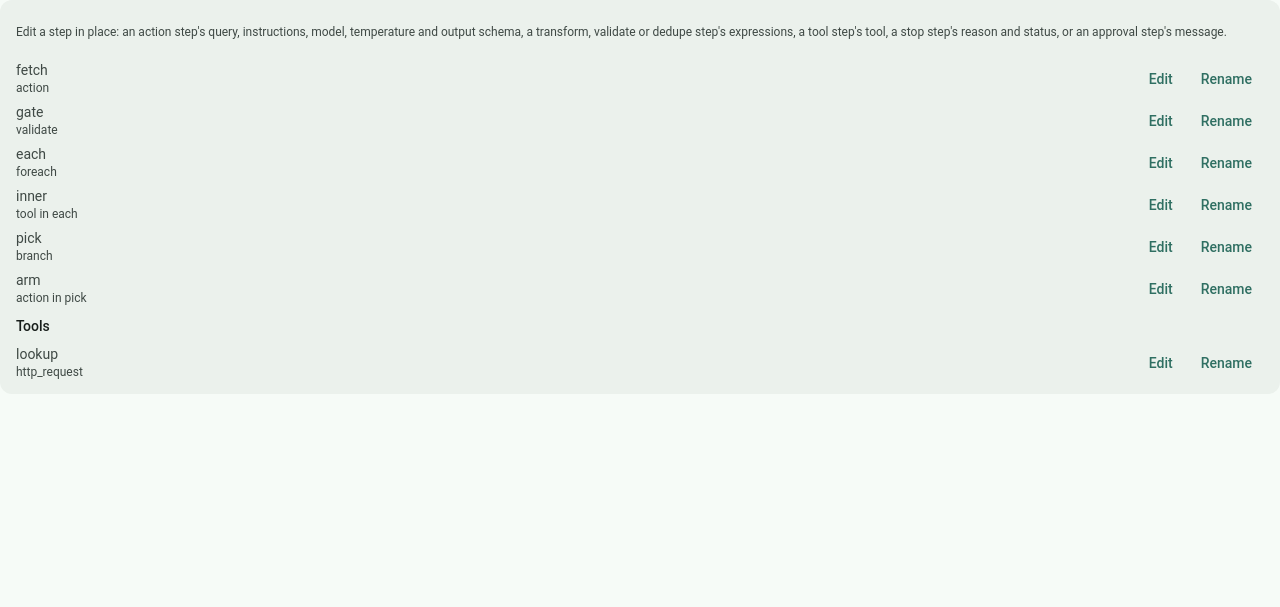
Test: StepsPanel rename › keeps the typed name and shows a refusal in words next to the field
Click the button with aria-label "Rename step fetch" at {"x": 1226, "y": 79}, box left=1189, top=61, right=1264, bottom=97
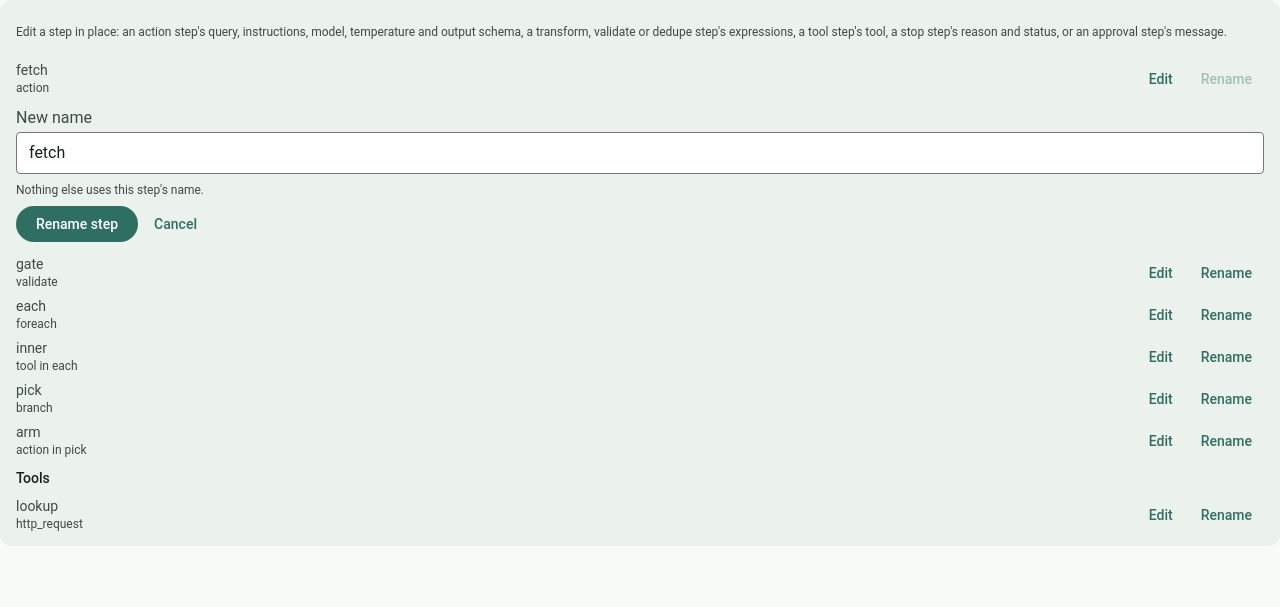
Replace the text in the field labelled "New name" with "gate" at {"x": 640, "y": 153}, box left=16, top=132, right=1264, bottom=174
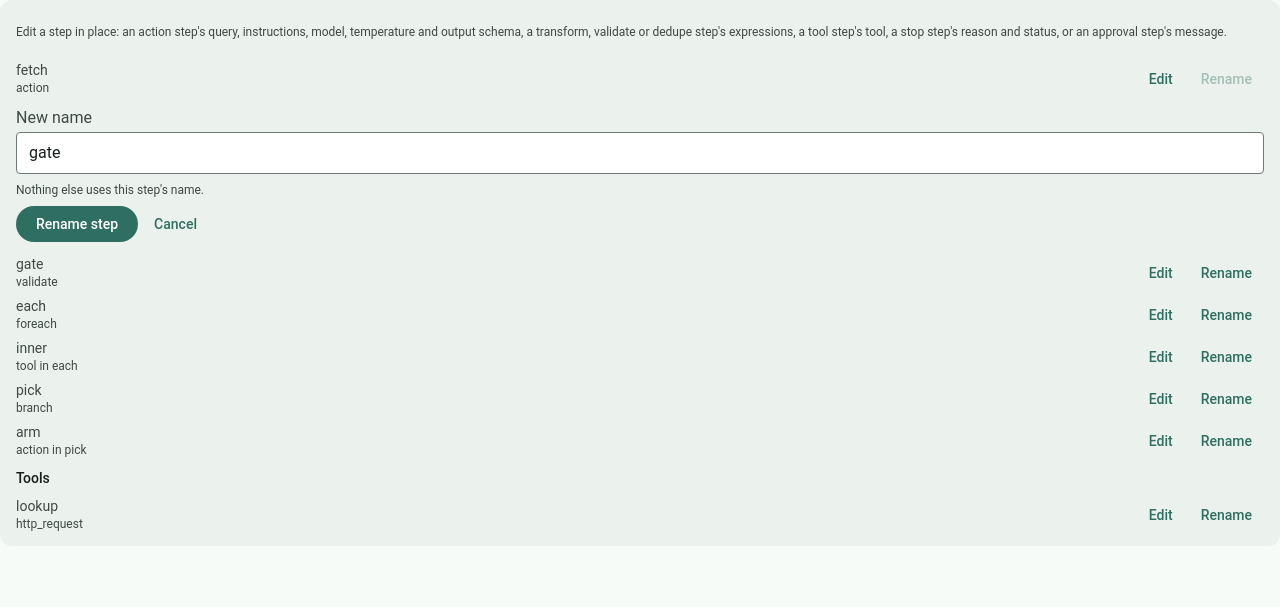
Click the button "Rename step" at {"x": 77, "y": 224}, box left=16, top=206, right=138, bottom=242
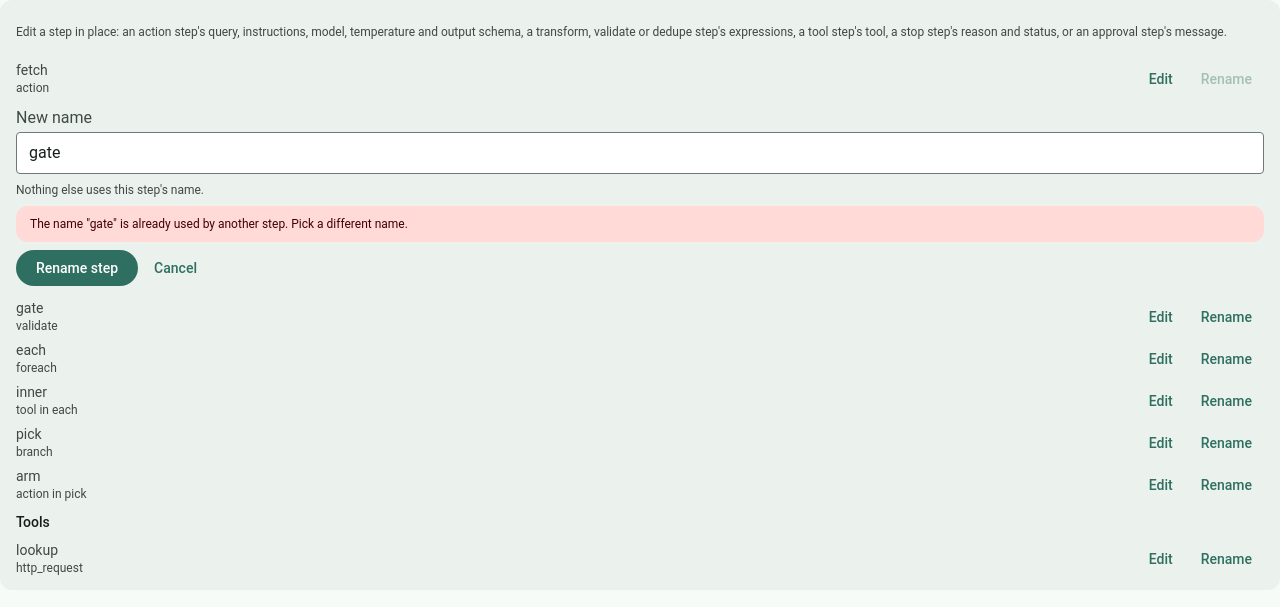
Expected: the message reads "The name \"gate\" is already used by another step. Pick a different name.", left=30, top=217, right=408, bottom=231
Replace the text in the field labelled "New name" with "gate2" at {"x": 640, "y": 153}, box left=16, top=132, right=1264, bottom=174
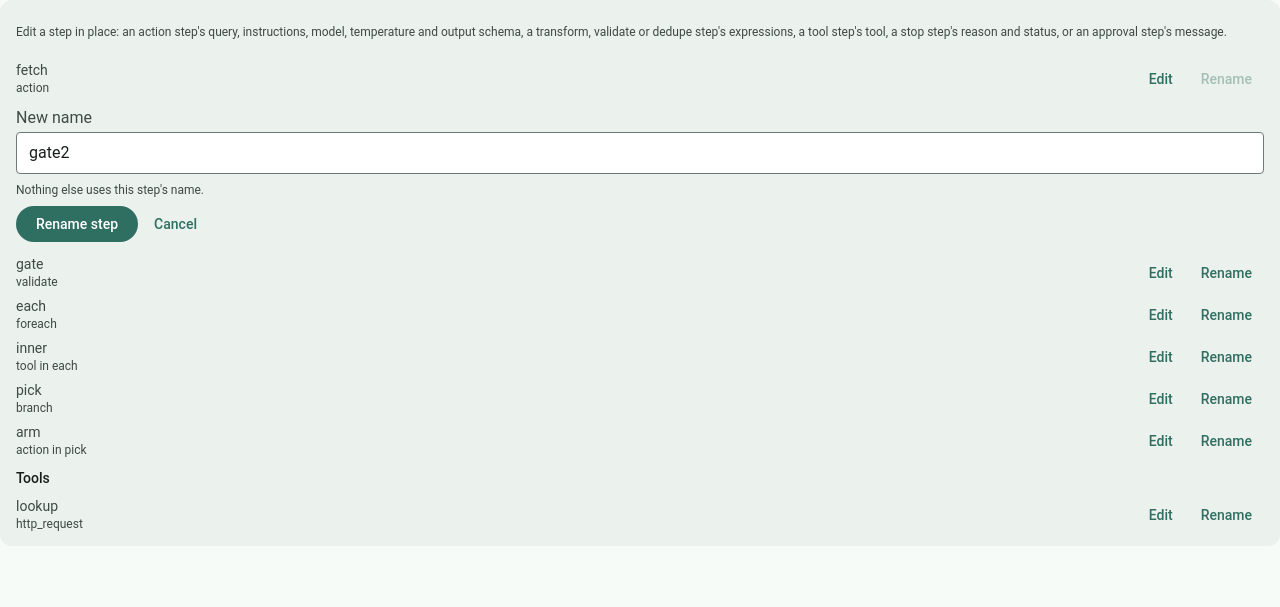
Expected: the message "The name \"gate\" is already used by another step. Pick a different name." is gone
